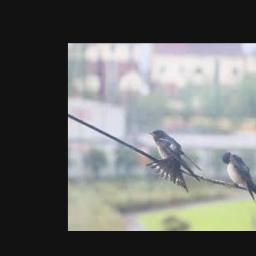Swallow: (146, 129, 202, 194), (222, 152, 256, 205)
